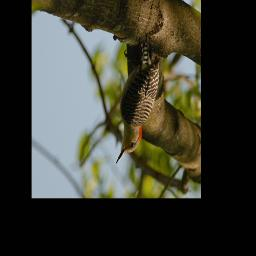Woodpecker: (116, 34, 160, 164)
